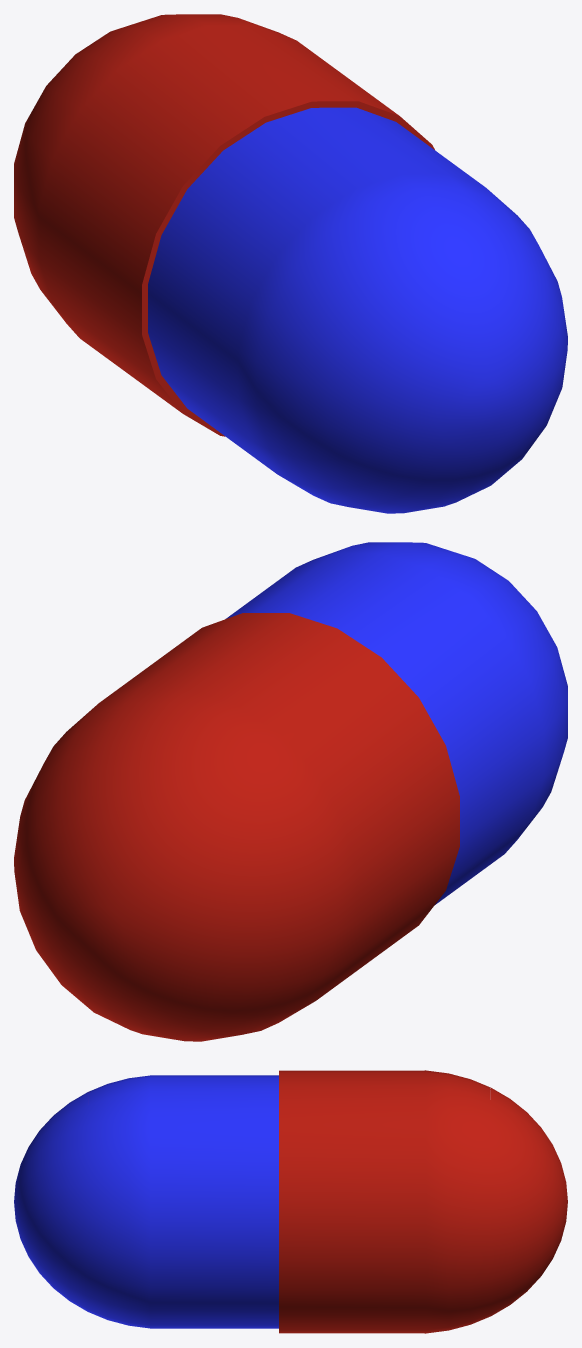
Rendered from M_Pill.fbx.
The picture shows the model from 3 angles, top to bottom: view 1: azimuth 30°, elevation 25°; view 2: azimuth 150°, elevation 25°; view 3: azimuth 270°, elevation 25°; orthographic projection. The views are drawn at different scales.
Visible parts, largest first — view 1: pSphere1; view 2: pSphere1; view 3: pSphere1.
Boxes of the visible parts, x1,y1,x2,y2 form: pSphere1: [14, 14, 567, 513]; pSphere1: [14, 542, 567, 1041]; pSphere1: [14, 1070, 567, 1333].
Bounding box in the file's own units: 0.4931 × 0.4943 × 1.04.
Materials: 1 (1 with a texture image).
